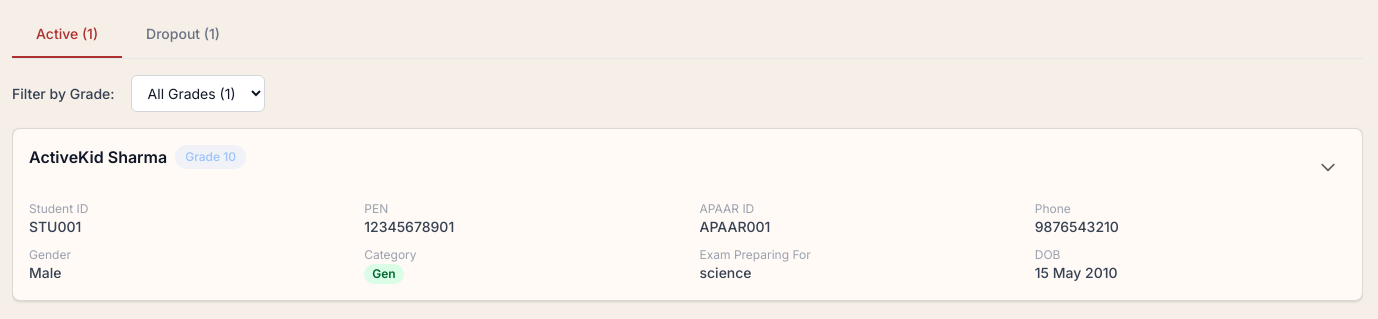
Test case: StudentTable - tab switching › switches back to active tab
The image size is (1378, 319).
Click the button "Dropout (1)".
click(183, 35)  # box x1=122 y1=12 x2=244 y2=58
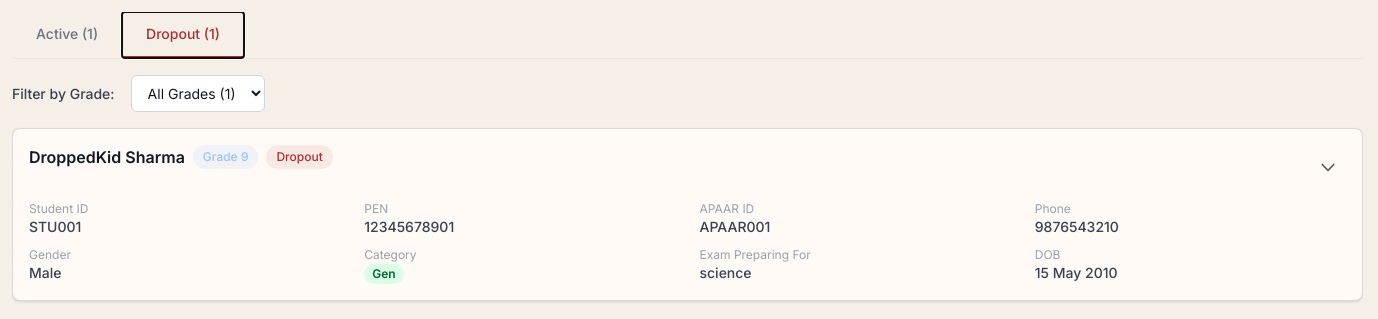
Click the button "Active (1)".
click(67, 35)  # box x1=12 y1=12 x2=122 y2=58
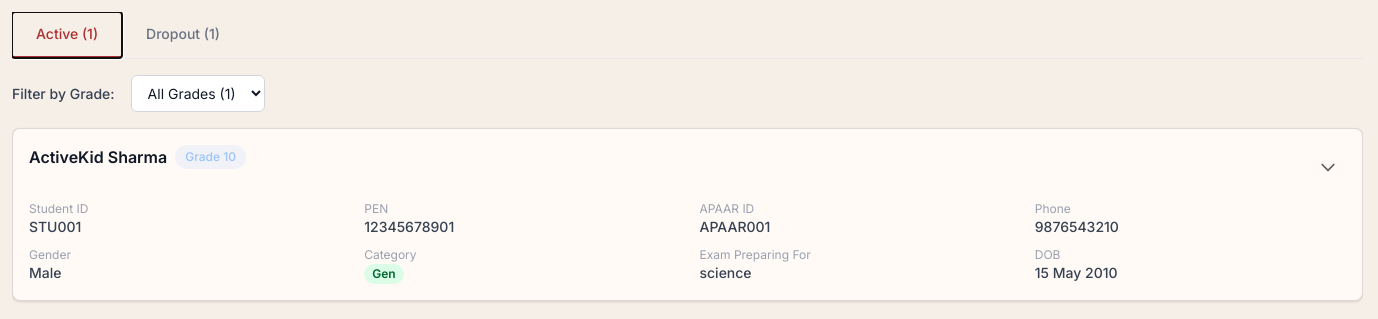
Expected: the heading "ActiveKid Sharma" is shown, x1=29 y1=145 x2=167 y2=169
Expected: the heading "DroppedKid Sharma" is gone
